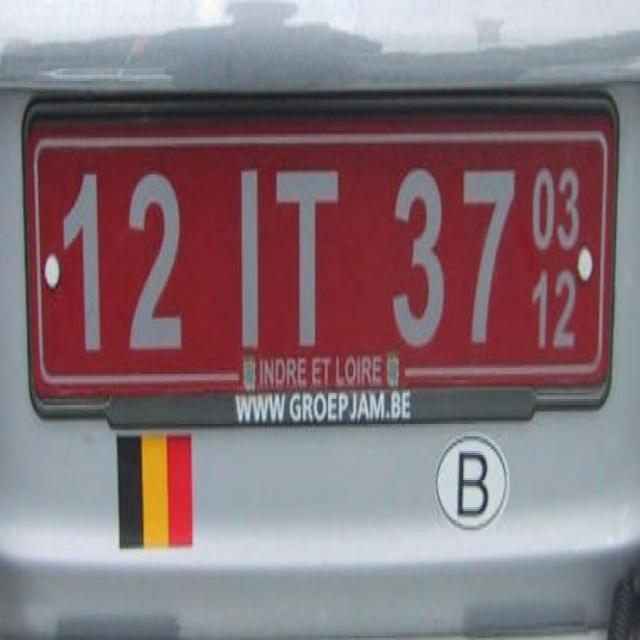licenseplate: (22, 106, 616, 418)
